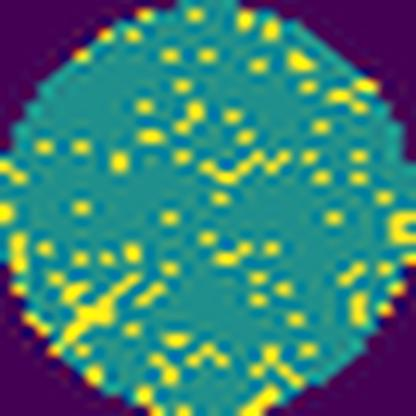Edge-Loc: (196, 103, 288, 182)
